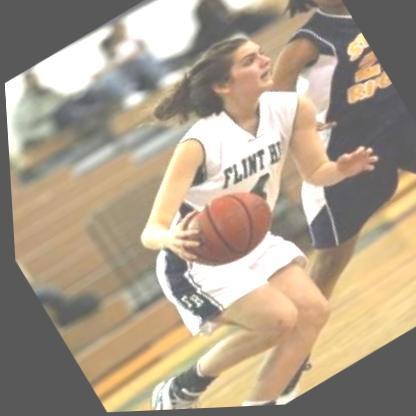basketball: (169, 180, 280, 281)
